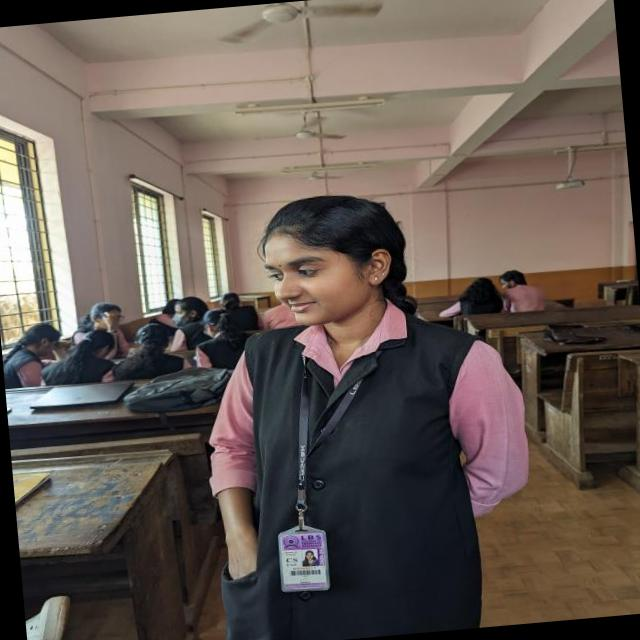id_card: (258, 342, 393, 596)
